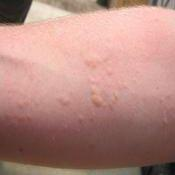Mosquito: (86, 83, 105, 109), (81, 54, 101, 67), (56, 96, 71, 106)
